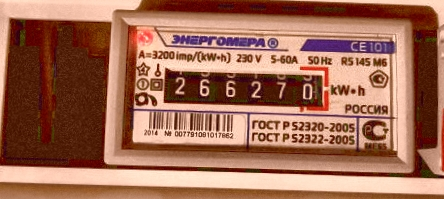0: (299, 80, 314, 101)
2: (172, 75, 186, 96), (249, 79, 263, 99)
6: (197, 76, 210, 98), (223, 78, 237, 98)
7: (275, 80, 286, 99)
screen: (151, 57, 335, 117)
